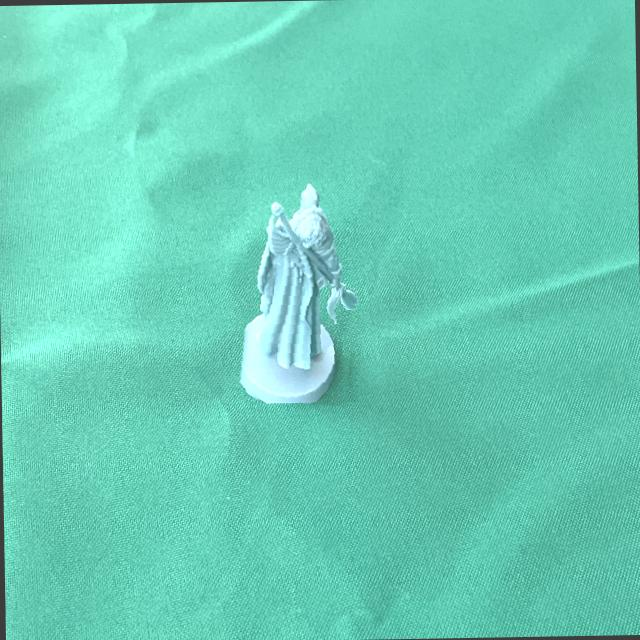isis_follower: (240, 175, 364, 406)
